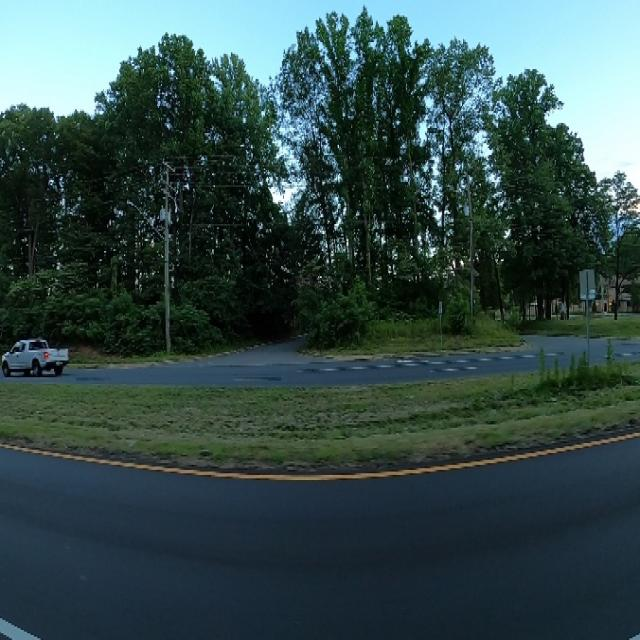cars: (0, 332, 73, 389)
